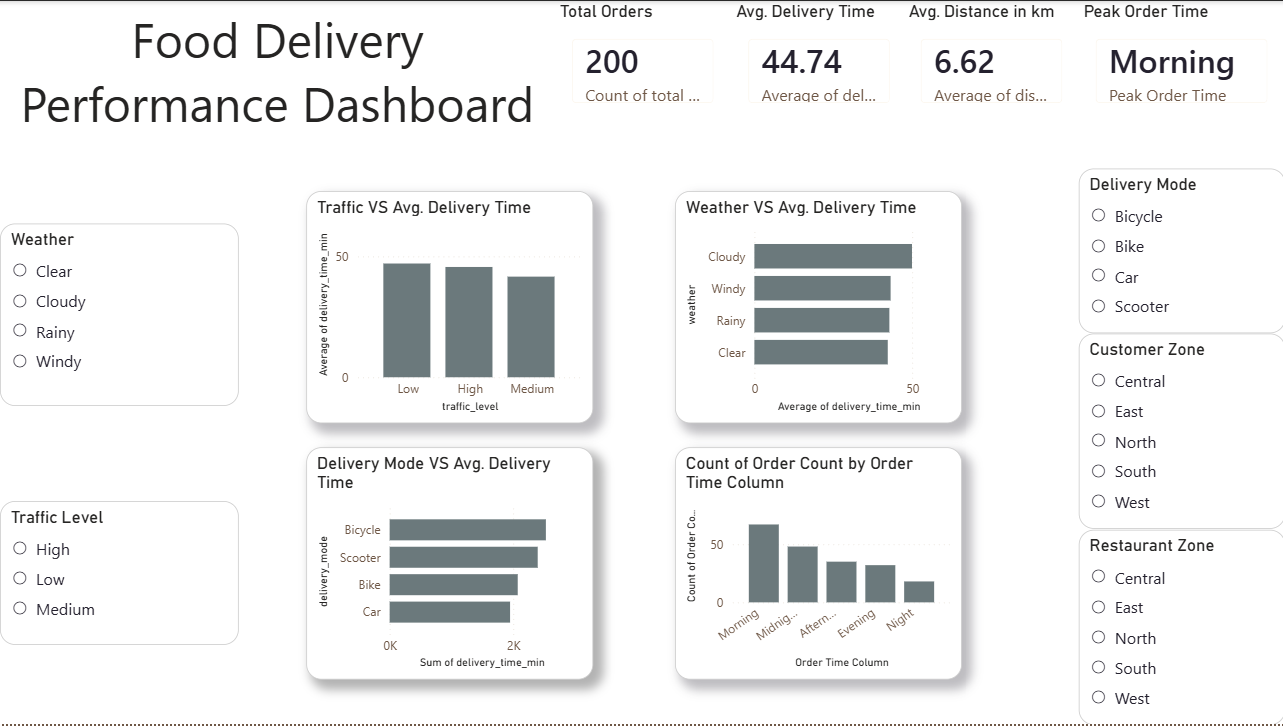

Layout of this report page (visuals, bound fields, positions):
{"tool":"powerbi","page":{"name":"Page 1","canvas":[1280,720],"ordinal":0},"visuals":[{"type":"textbox","box":[0,0,552.3,189.1],"z":0},{"type":"cardVisual","title":"Total Orders","fields":{"Data":["CountNonNull(Food Delivery Data.order_id)"]},"box":[552.3,0,175.3,119.7],"z":1000},{"type":"cardVisual","title":"Avg. Delivery Time ","fields":{"Data":["Avg(Food Delivery Data.delivery_time_min)"]},"box":[727.7,0,175.3,119.7],"z":2000},{"type":"cardVisual","title":"Avg. Distance in km","fields":{"Data":["Avg(Food Delivery Data.distance_km)"]},"box":[898.8,0,175.3,119.7],"z":3000},{"type":"cardVisual","title":"Peak Order Time","fields":{"Data":["Food Delivery Data.Peak Order Time"]},"box":[1074.1,0,205.9,119.7],"z":4000},{"type":"clusteredColumnChart","title":"Traffic VS Avg. Delivery Time","fields":{"Category":["Food Delivery Data.traffic_level"],"Y":["Avg(Food Delivery Data.delivery_time_min)"]},"box":[304.7,189.2,285.2,231],"z":5000},{"type":"clusteredBarChart","title":"Weather VS Avg. Delivery Time","fields":{"Category":["Food Delivery Data.weather"],"Y":["Avg(Food Delivery Data.delivery_time_min)"]},"box":[672,189.2,285.2,231],"z":6000},{"type":"listSlicer","title":"Weather","fields":{"Values":["Food Delivery Data.weather"]},"box":[0,221.4,237.6,181.6],"z":7000},{"type":"clusteredColumnChart","fields":{"Category":["Food Delivery Data.Order Time Column"],"Y":["CountNonNull(Food Delivery Data.Order Count)"]},"box":[672,443.8,285.2,231],"z":8000},{"type":"clusteredBarChart","title":"Delivery Mode VS Avg. Delivery Time","fields":{"Category":["Food Delivery Data.delivery_mode"],"Y":["Sum(Food Delivery Data.delivery_time_min)"]},"box":[304.7,443.8,285.2,231],"z":9000},{"type":"listSlicer","title":"Traffic Level","fields":{"Values":["Food Delivery Data.traffic_level"]},"box":[0,497.6,237.6,143.1],"z":10000},{"type":"listSlicer","title":"Delivery Mode","fields":{"Values":["Food Delivery Data.delivery_mode"]},"box":[1074.1,167,205.9,164.2],"z":11000},{"type":"listSlicer","title":"Restaurant Zone","fields":{"Values":["Food Delivery Data.restaurant_zone"]},"box":[1074.1,525.9,205.9,194.8],"z":12000},{"type":"listSlicer","title":"Customer Zone","fields":{"Values":["Food Delivery Data.customer_zone"]},"box":[1074.1,331.1,205.9,194.8],"z":13000}]}

Visuals, with their boxes in screenshot pixels (x1, y1, x2, y2), scaled from the page's 1280x720 canvas onto the 1283x726 screenshot:
textbox: Rect(0, 0, 554, 191)
"Total Orders" cardVisual: Rect(554, 0, 729, 121)
"Avg. Delivery Time " cardVisual: Rect(729, 0, 905, 121)
"Avg. Distance in km" cardVisual: Rect(901, 0, 1077, 121)
"Peak Order Time" cardVisual: Rect(1077, 0, 1282, 121)
"Traffic VS Avg. Delivery Time" clusteredColumnChart: Rect(305, 191, 591, 424)
"Weather VS Avg. Delivery Time" clusteredBarChart: Rect(674, 191, 959, 424)
"Weather" listSlicer: Rect(0, 223, 238, 406)
clusteredColumnChart - Food Delivery Data.Order Time Column x CountNonNull(Food Delivery Data.Order Count): Rect(674, 447, 959, 680)
"Delivery Mode VS Avg. Delivery Time" clusteredBarChart: Rect(305, 447, 591, 680)
"Traffic Level" listSlicer: Rect(0, 502, 238, 646)
"Delivery Mode" listSlicer: Rect(1077, 168, 1282, 334)
"Restaurant Zone" listSlicer: Rect(1077, 530, 1282, 725)
"Customer Zone" listSlicer: Rect(1077, 334, 1282, 530)
